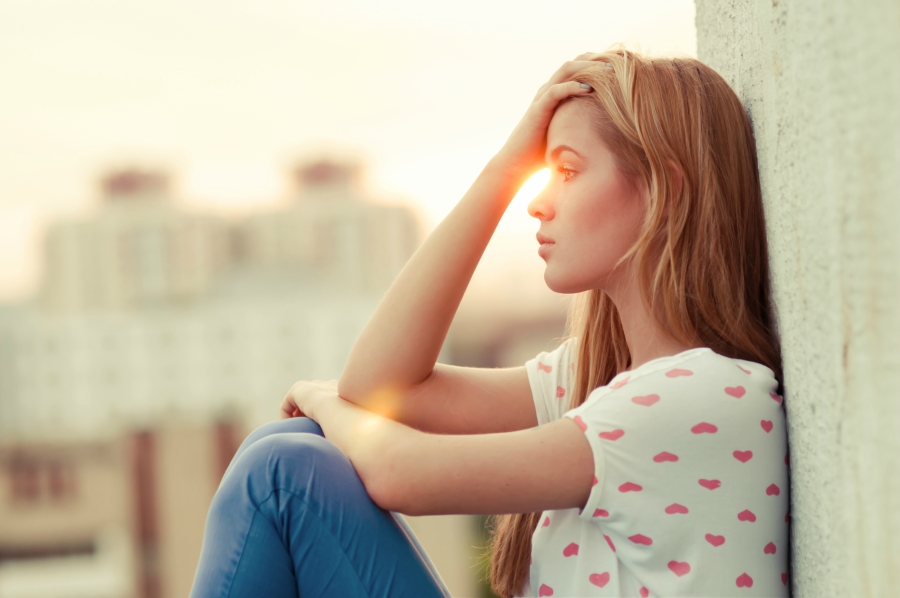sad: (512, 110, 652, 299)
